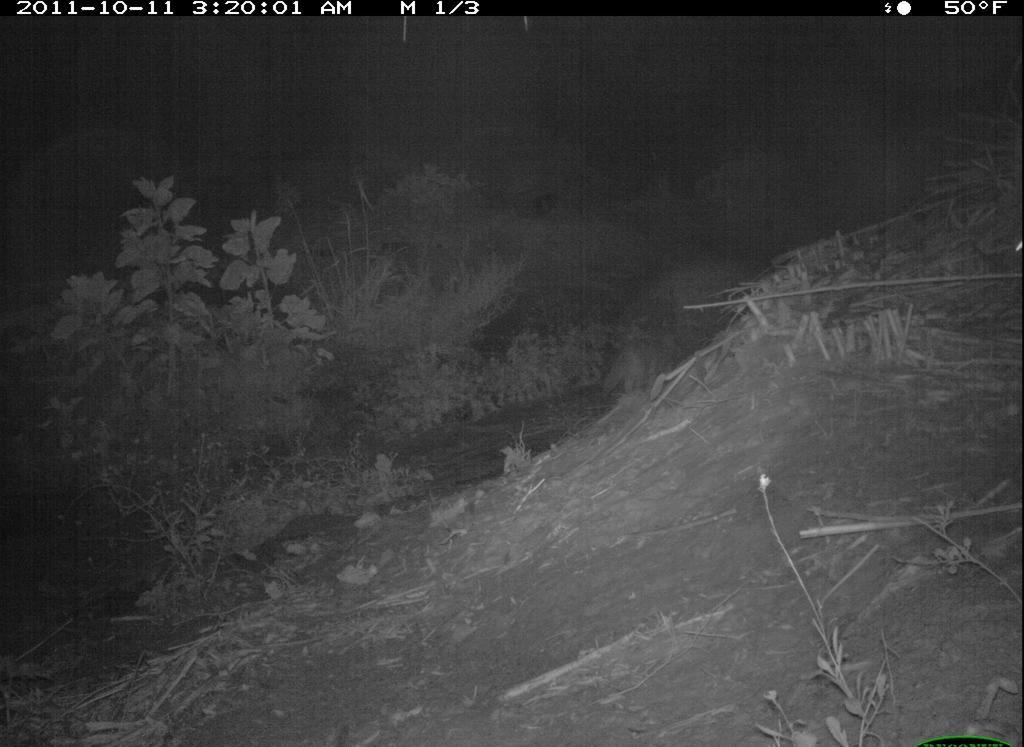coyote: (595, 322, 703, 410)
